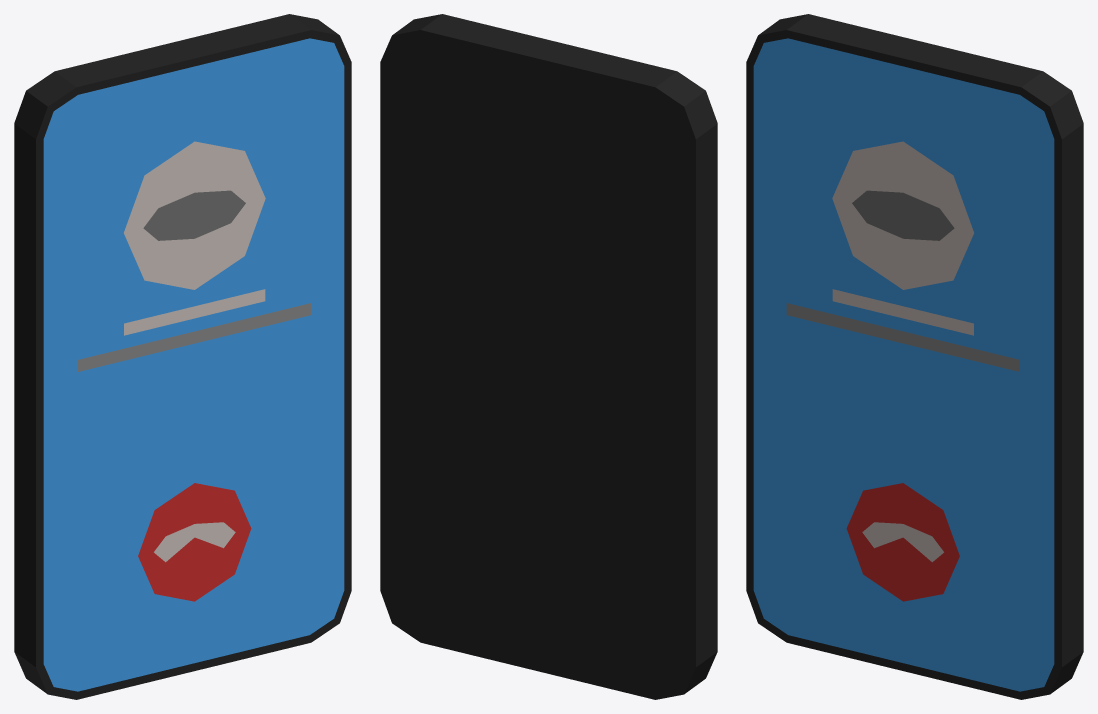
The model's file is Smartphone call.fbx.
3 renders of one model, left to right at view 1: azimuth 30°, elevation 25°; view 2: azimuth 150°, elevation 25°; view 3: azimuth 330°, elevation 25°, orthographic.
Visible parts, largest first — view 1: Smartphone call; view 2: Smartphone call; view 3: Smartphone call.
Part boxes in pixels (x1=…): Smartphone call: x1=14, y1=14, x2=351, y2=699; Smartphone call: x1=380, y1=14, x2=717, y2=699; Smartphone call: x1=746, y1=14, x2=1083, y2=699.
Size of the model in its own units: 17.17 by 31.84 by 2.13.
